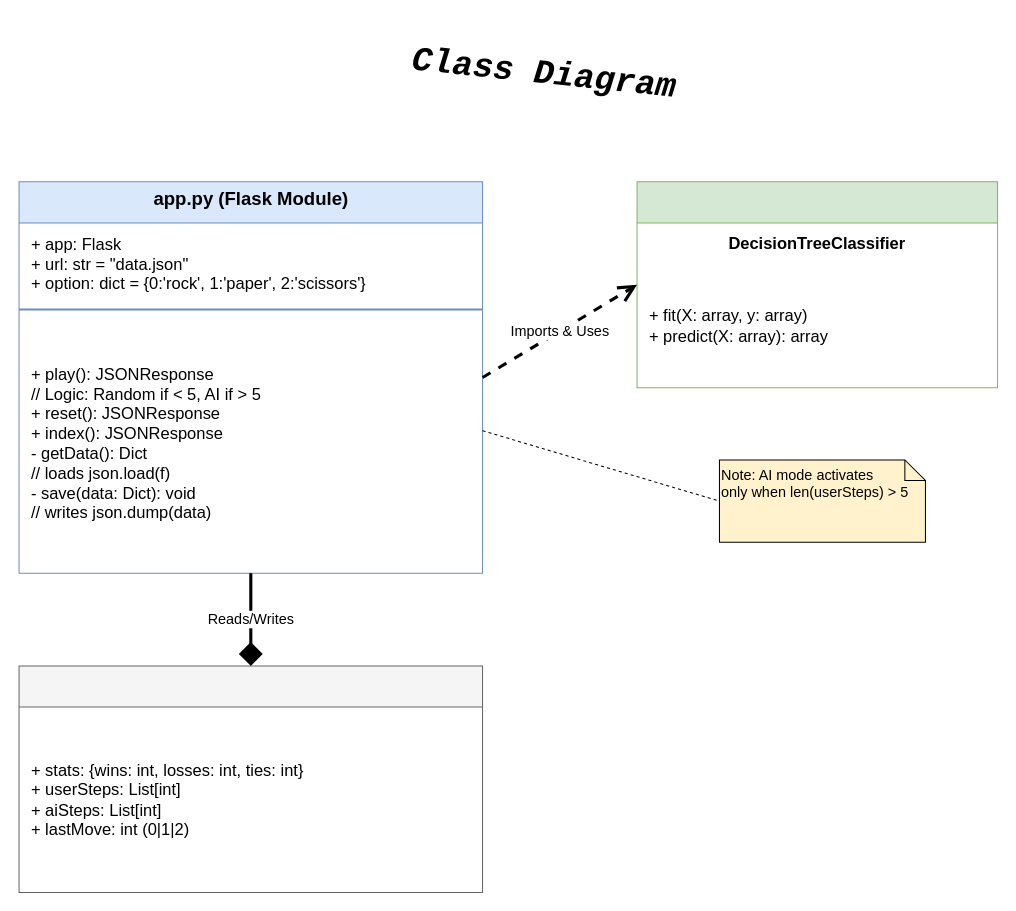
This 1016x911 diagram has some shape labels left out. The shapes that lost their labels are listed below. From the top down, each one's box as (x1, y1, x2, y2) in pixels, then its label:
(636, 181, 998, 388): sklearn.tree
(18, 665, 483, 892): Data Structure (JSON)
